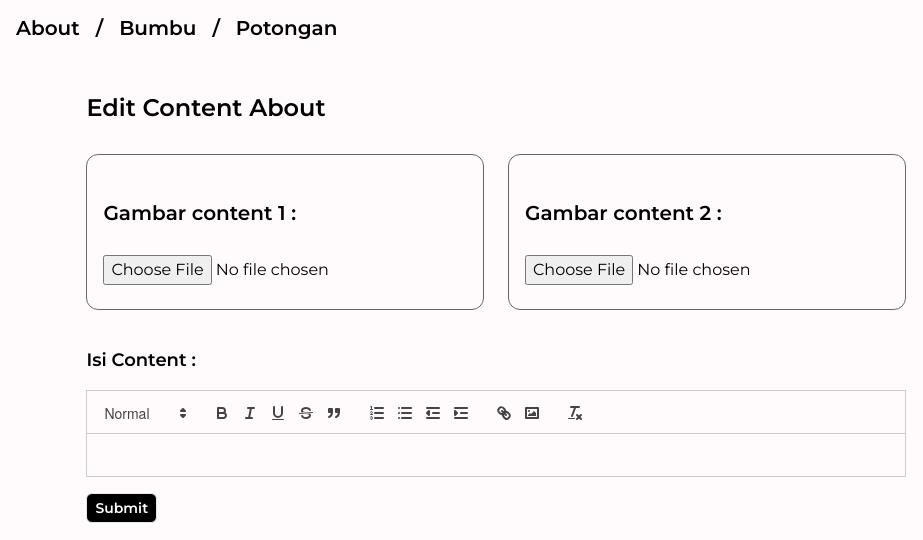
Test: Dashboard › should render ProductBumbu component when user click link 'Bumbu'
What coordinates should you click on to do the following:
click the link "Bumbu"
I would click on:
 (158, 28)
Its box is [119,16,196,40].
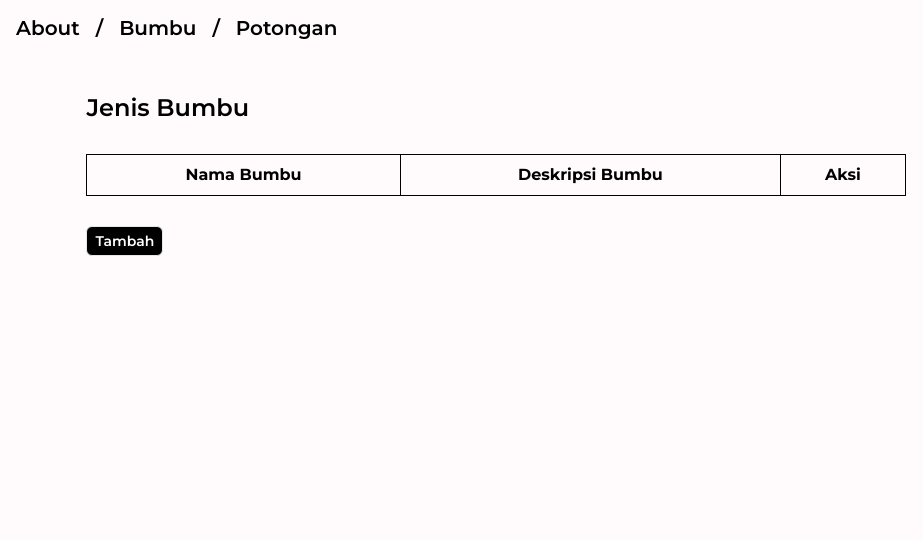
Result: the heading "Jenis Bumbu" is shown at [86,93,249,122]
